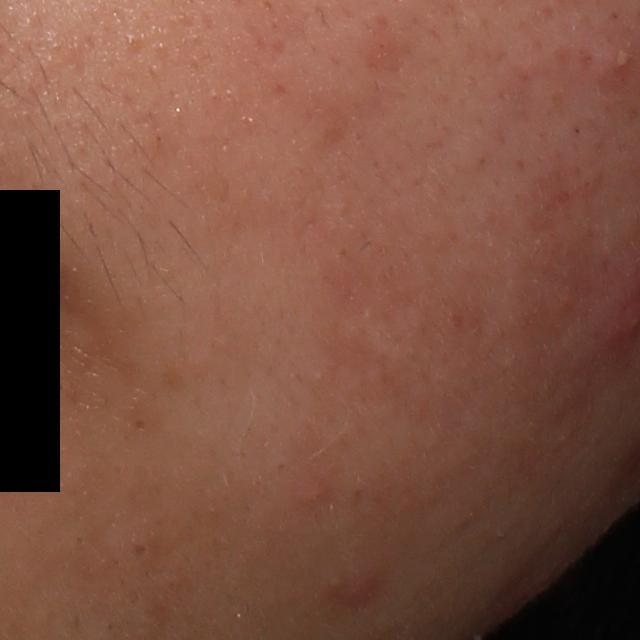comedo: (128, 538, 151, 562), (128, 416, 149, 437)
papule: (328, 568, 381, 599), (294, 470, 331, 509)
pustule: (604, 39, 637, 73)
